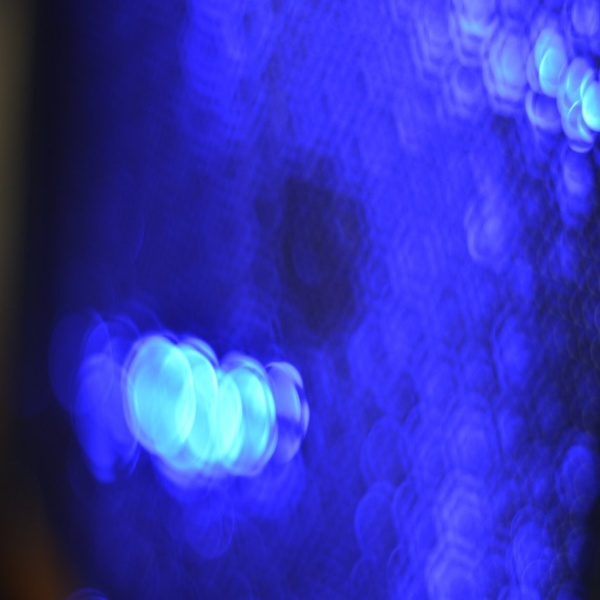Jellyfish: (66, 274, 343, 519)
